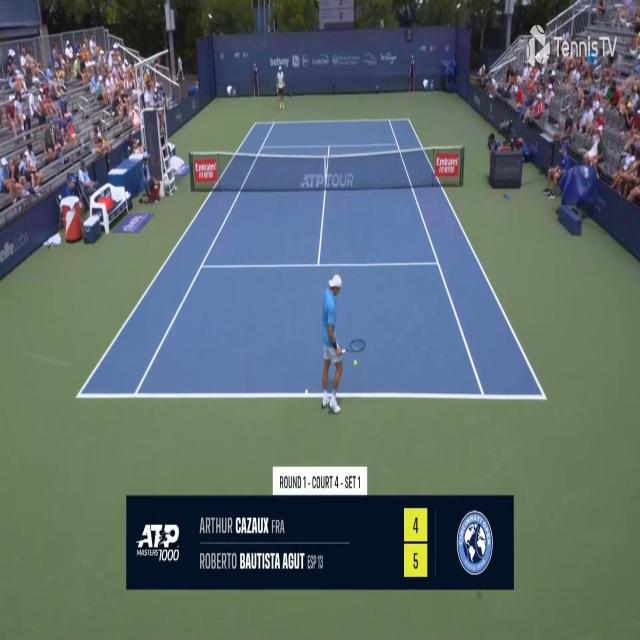tennis-player: (318, 270, 362, 418), (275, 66, 287, 110)
